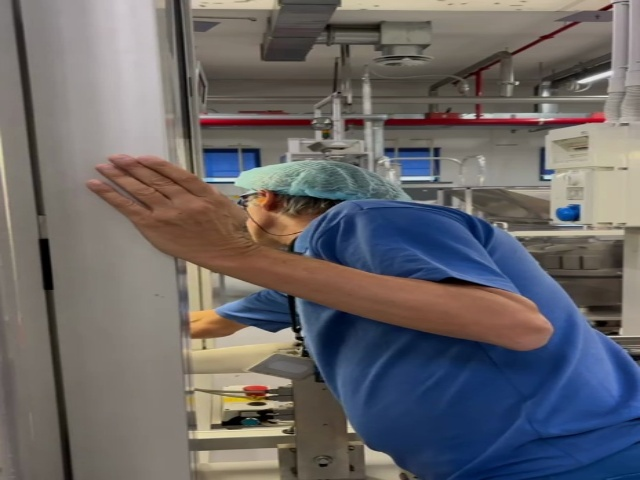Earplug: (258, 187, 273, 212)
Hairnet: (235, 160, 411, 204)
No_Helmet: (233, 160, 414, 199)
No_Vest: (294, 200, 640, 460)
Person: (87, 159, 640, 480)
Safety_Goggles: (231, 189, 262, 209)
